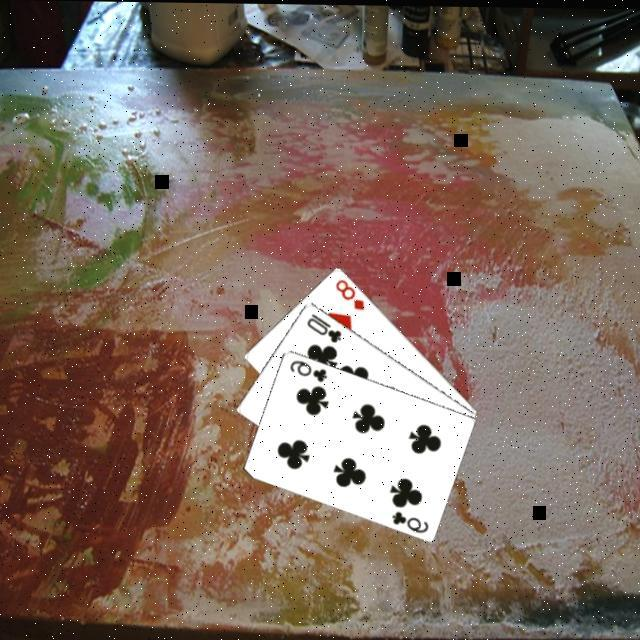10C: (306, 308, 346, 344)
6C: (288, 355, 332, 383), (390, 505, 432, 534)
8D: (334, 274, 369, 310)
